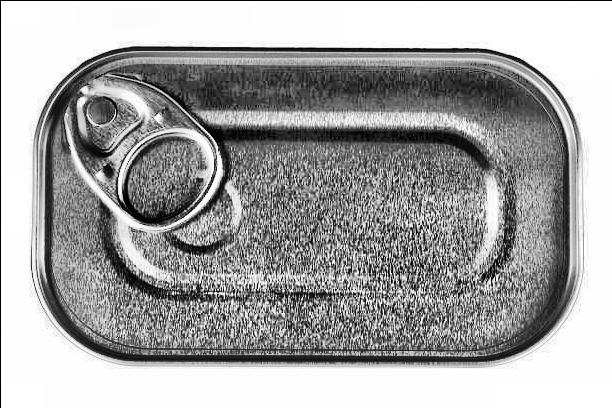can: (16, 20, 590, 380)
